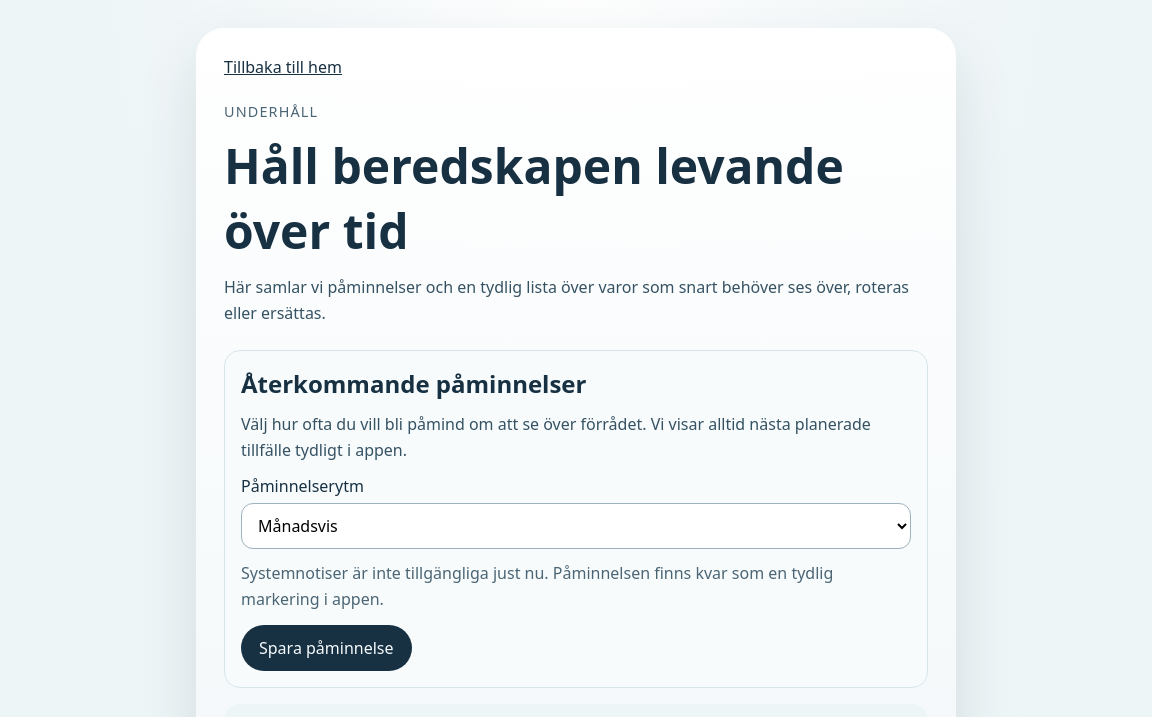
Test: MaintenanceRoute › saves reminder settings and shows the next planned review
Select "Kvartalsvis" in the dropdown labelled "Påminnelserytm" at (576, 526), box [241,503,911,549]
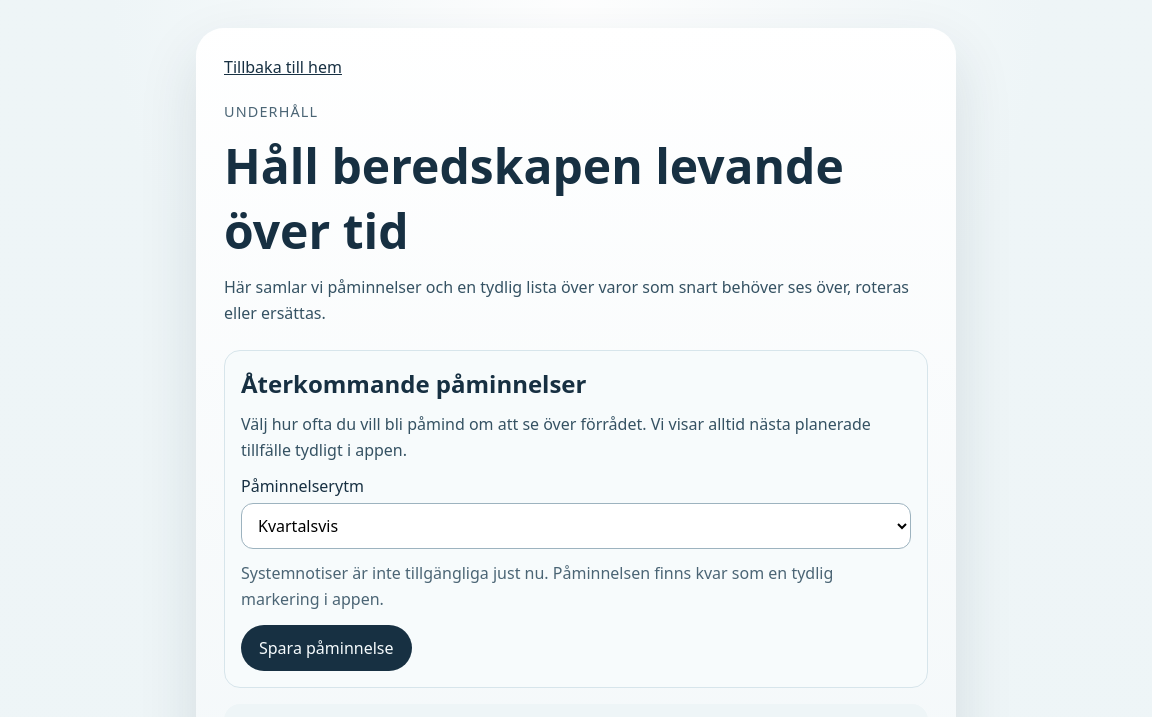
Click the button "Spara påminnelse" at (326, 648), box [241,625,412,671]
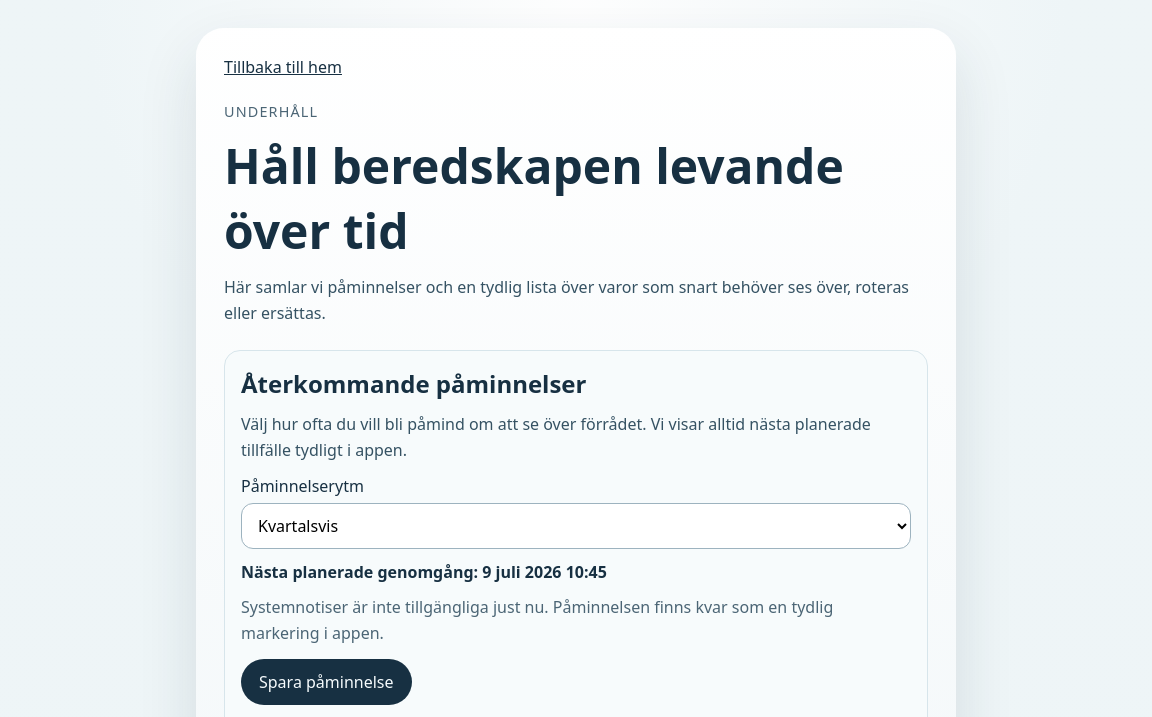
Expected: the text "Nästa planerade genomgång" is shown, [241,561,482,583]
